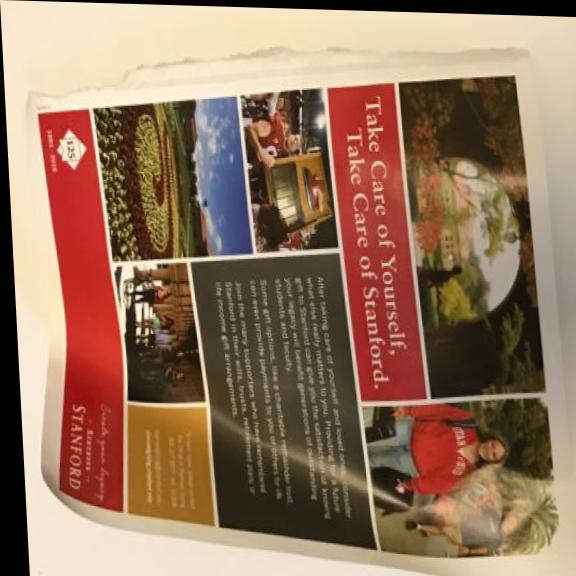Kertas: (9, 20, 576, 576)
